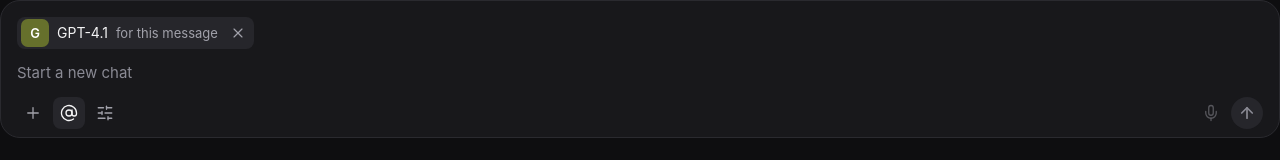
Test: Composer › uses an @ model for the next message only
Expected: the text "for this message" is shown, left=116, top=24, right=218, bottom=42
Type "Hi" into the text box labelled "Start a new chat". click: (640,73)
box: left=17, top=57, right=1263, bottom=89
Then press Enter
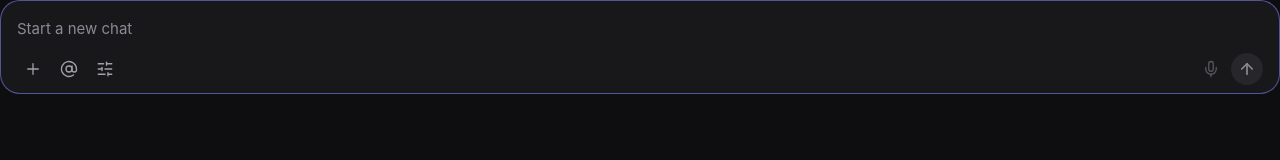
Now the text "for this message" is gone
